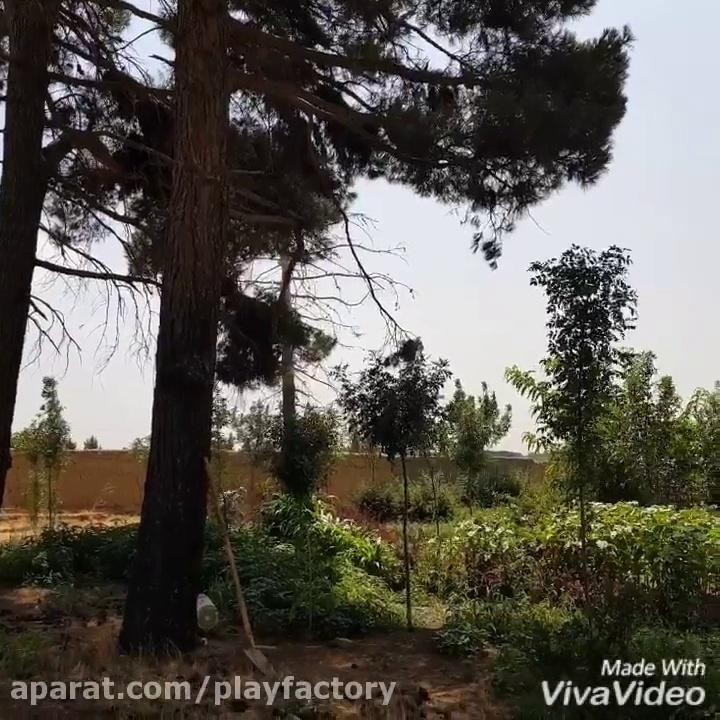drone: (351, 325, 365, 339)
